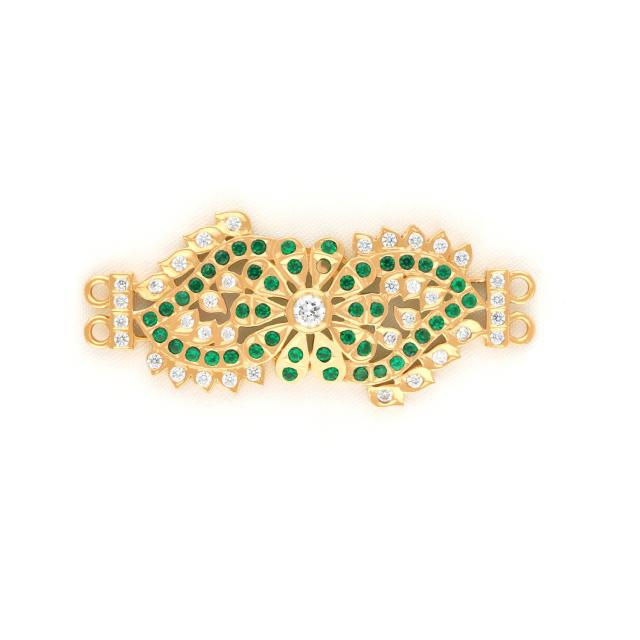missing gem: (316, 259, 331, 273)
